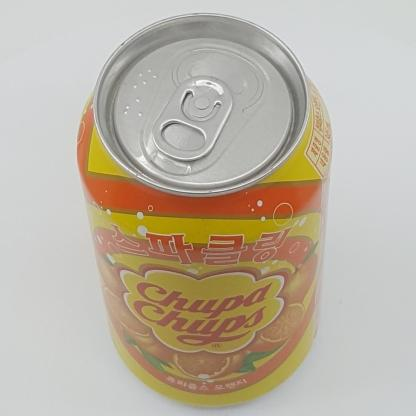----------345ML: (76, 12, 334, 407)
